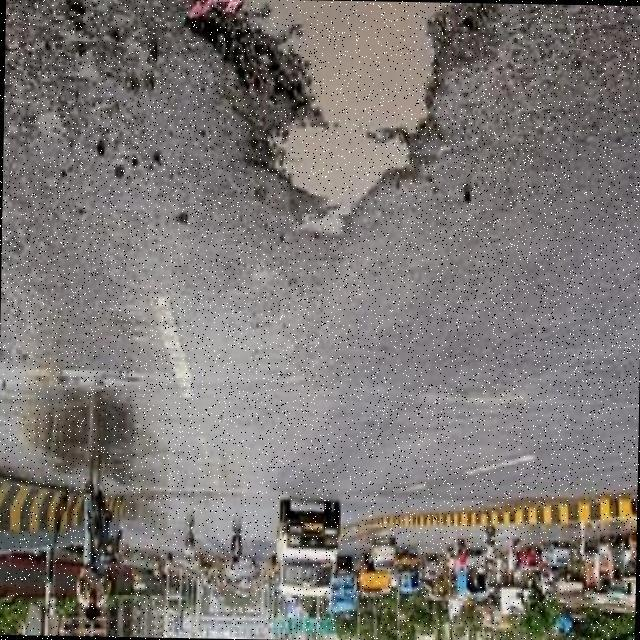Pothole: (187, 0, 496, 203)
